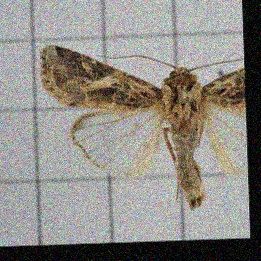Spodoptera litura: (41, 40, 247, 214)
